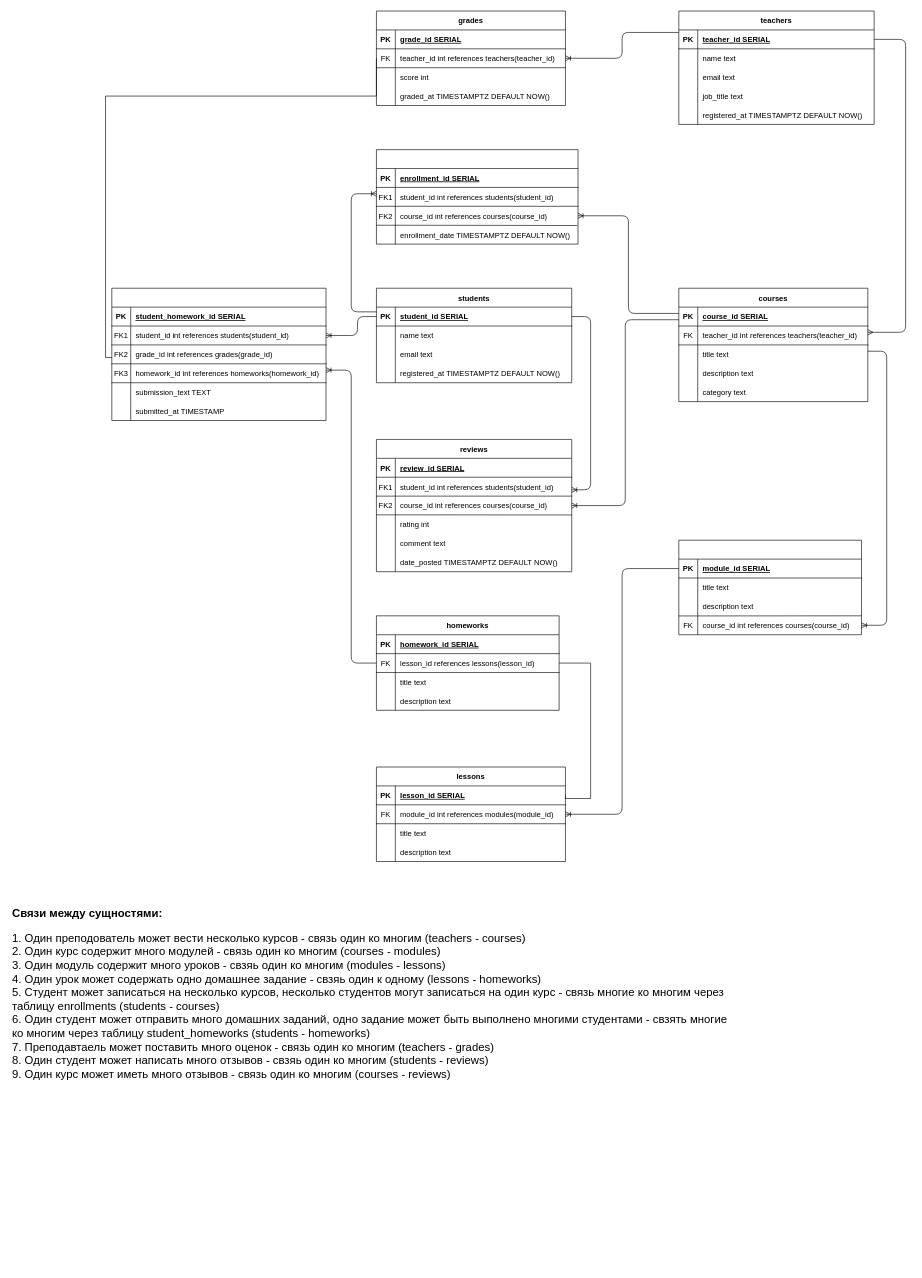
This 922x1278 diagram has some shape labels left out. The box of each missing label's shape, as (x1, y1, x2, y2) in pixels:
enrollments: (376, 149, 578, 244)
modules: (678, 540, 862, 635)
student_homeworks: (111, 288, 326, 421)
